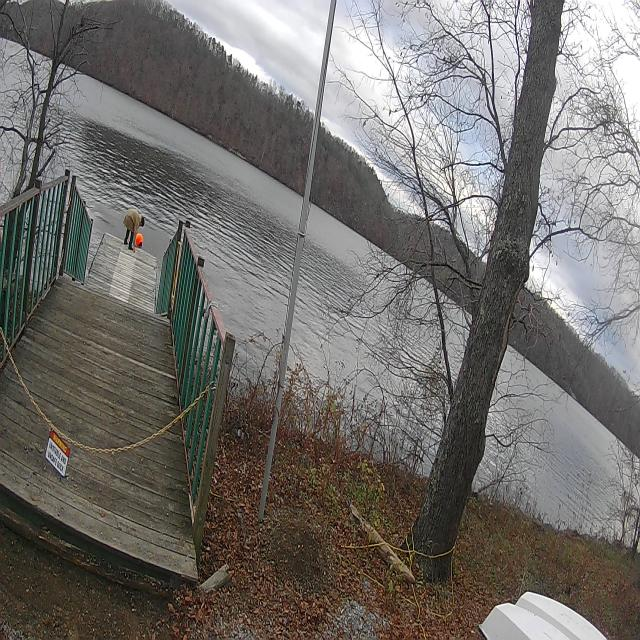Buoy: (134, 228, 146, 253)
